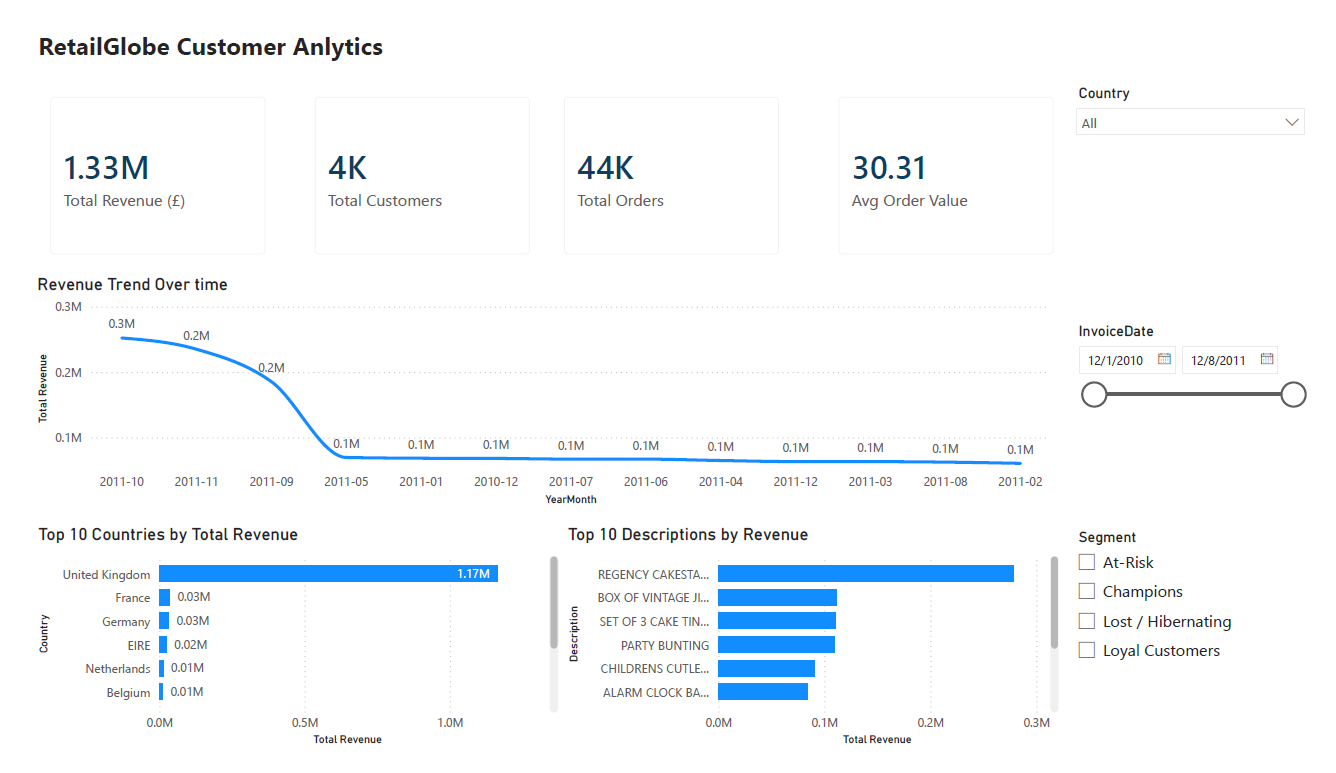

The page's visual inventory and layout, read from the dashboard file:
{"tool":"powerbi","page":{"name":"Page 1","canvas":[1280,720],"ordinal":0},"visuals":[{"type":"textbox","box":[9.7,0,525.2,55.4],"z":0},{"type":"cardVisual","fields":{"Data":["online_retail_segmented.Total Revenue"]},"box":[9.7,55.4,247.1,190.6],"z":1000},{"type":"cardVisual","fields":{"Data":["online_retail_segmented.Total Customers"]},"box":[272.3,55.4,247.1,190.6],"z":2000},{"type":"cardVisual","fields":{"Data":["online_retail_segmented.Total Orders"]},"box":[519.4,55.4,247.1,190.6],"z":3000},{"type":"cardVisual","fields":{"Data":["online_retail_segmented.Avg Order Value"]},"box":[790.8,55.4,247.1,190.6],"z":4000},{"type":"lineChart","title":"Revenue Trend Over time","fields":{"Category":["online_retail_segmented.YearMonth"],"Y":["online_retail_segmented.Total Revenue"]},"box":[9.5,247,1013.1,234.4],"z":5000},{"type":"clusteredBarChart","title":"Top 10 Countries by Total Revenue","fields":{"Category":["online_retail_segmented.Country"],"Y":["online_retail_segmented.Total Revenue"]},"box":[9.7,495.1,525.2,224.7],"z":6000},{"type":"clusteredBarChart","title":"Top 10 Descriptions by Revenue","fields":{"Category":["online_retail_segmented.Description"],"Y":["online_retail_segmented.Total Revenue"]},"box":[535,495.1,496,224.7],"z":7000},{"type":"slicer","fields":{"Values":["online_retail_segmented.Country"]},"box":[1032.9,55.4,247.1,191.6],"z":8000},{"type":"slicer","fields":{"Values":["online_retail_segmented.InvoiceDate"]},"box":[1033,291,247,191],"z":9000},{"type":"slicer","fields":{"Values":["online_retail_segmented.Segment"]},"box":[1033,495,247,225],"z":10000}]}

Visuals, with their boxes in screenshot pixels (x1, y1, x2, y2), scaled from the page's 1280x720 canvas onto the 1336x773 screenshot:
textbox: detection(10, 0, 558, 59)
cardVisual - online_retail_segmented.Total Revenue: detection(10, 59, 268, 264)
cardVisual - online_retail_segmented.Total Customers: detection(284, 59, 542, 264)
cardVisual - online_retail_segmented.Total Orders: detection(542, 59, 800, 264)
cardVisual - online_retail_segmented.Avg Order Value: detection(825, 59, 1083, 264)
"Revenue Trend Over time" lineChart: detection(10, 265, 1067, 517)
"Top 10 Countries by Total Revenue" clusteredBarChart: detection(10, 532, 558, 772)
"Top 10 Descriptions by Revenue" clusteredBarChart: detection(558, 532, 1076, 772)
slicer - online_retail_segmented.Country: detection(1078, 59, 1335, 265)
slicer - online_retail_segmented.InvoiceDate: detection(1078, 312, 1335, 517)
slicer - online_retail_segmented.Segment: detection(1078, 531, 1335, 772)
